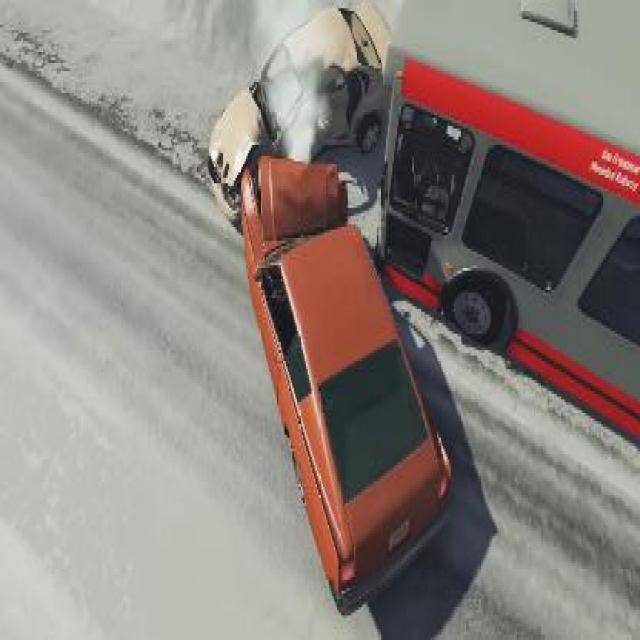accident: (201, 1, 639, 617), (208, 1, 457, 617)
